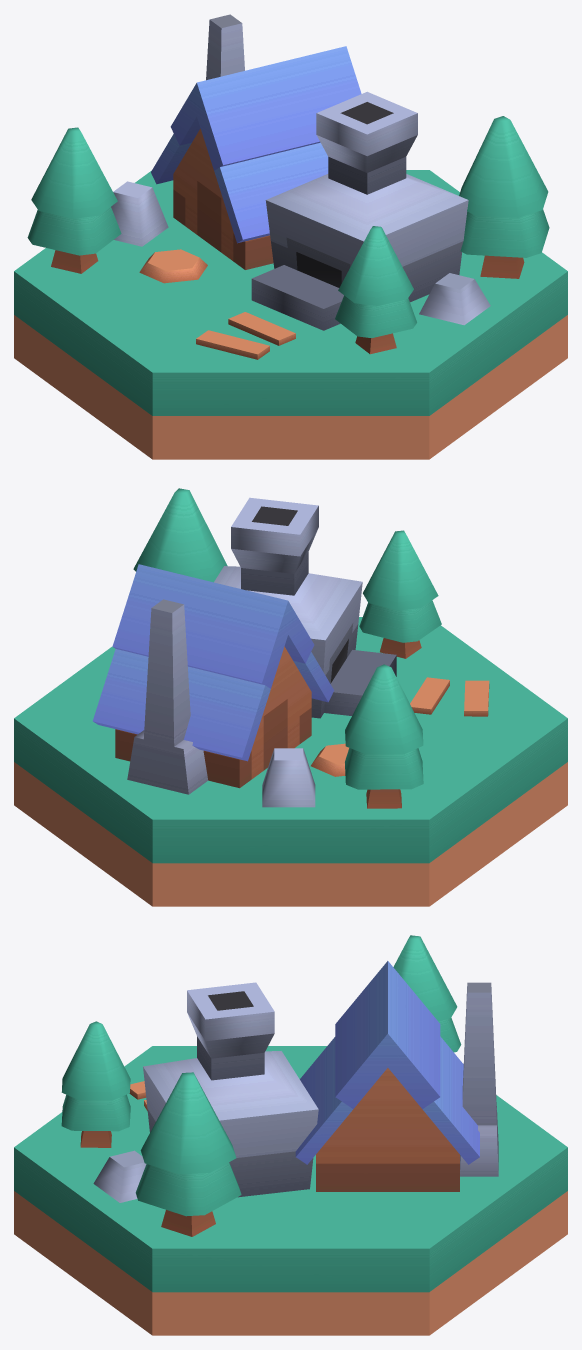
Rendered from building-smelter.glb.
The picture shows the model from 3 angles, top to bottom: view 1: azimuth 30°, elevation 25°; view 2: azimuth 150°, elevation 25°; view 3: azimuth 270°, elevation 25°; orthographic projection.
Visible parts, largest first — view 1: building-smelter; view 2: building-smelter; view 3: building-smelter.
Part boxes in pixels (box(x1,y1,x2,y2)): building-smelter: box(14, 14, 567, 459); building-smelter: box(14, 488, 567, 906); building-smelter: box(14, 935, 567, 1335).
Bounding box in the file's own units: 1 × 0.6 × 1.15.
1 material, 1 textured.
